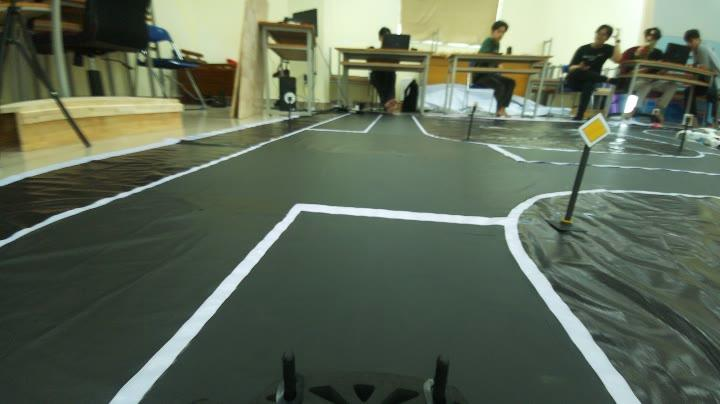priority: (570, 108, 608, 143)
